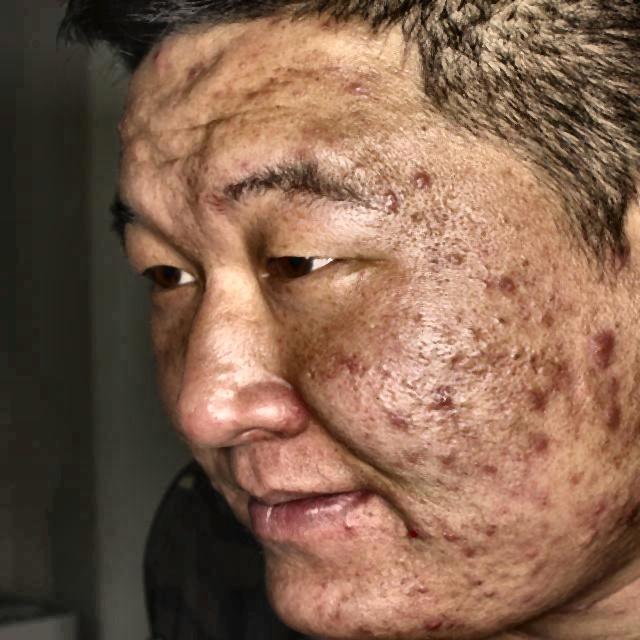papule: (394, 519, 438, 551), (571, 515, 613, 547), (544, 362, 582, 392), (596, 400, 628, 432), (534, 306, 564, 337), (237, 85, 274, 110), (420, 607, 454, 634), (585, 328, 615, 356), (338, 75, 369, 102), (440, 519, 467, 550), (474, 459, 506, 484), (481, 274, 514, 298), (524, 388, 554, 414), (428, 390, 460, 414), (558, 465, 590, 489), (480, 519, 512, 543), (582, 495, 612, 519), (472, 578, 500, 602), (383, 408, 415, 428), (525, 431, 547, 459), (409, 168, 435, 191), (324, 598, 350, 621), (150, 46, 174, 69), (522, 540, 544, 564), (524, 563, 552, 581), (402, 580, 429, 598), (518, 588, 540, 606), (588, 358, 614, 372), (380, 192, 396, 212)
